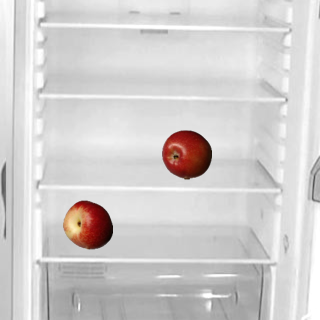Apple Braeburn: (161, 129, 211, 179)
Nectarine: (62, 199, 112, 249)
